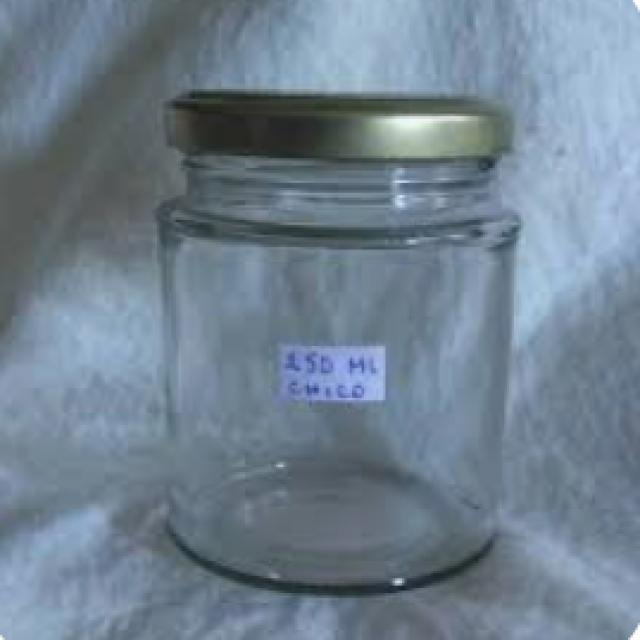ToplesKaca: (150, 82, 523, 596)
